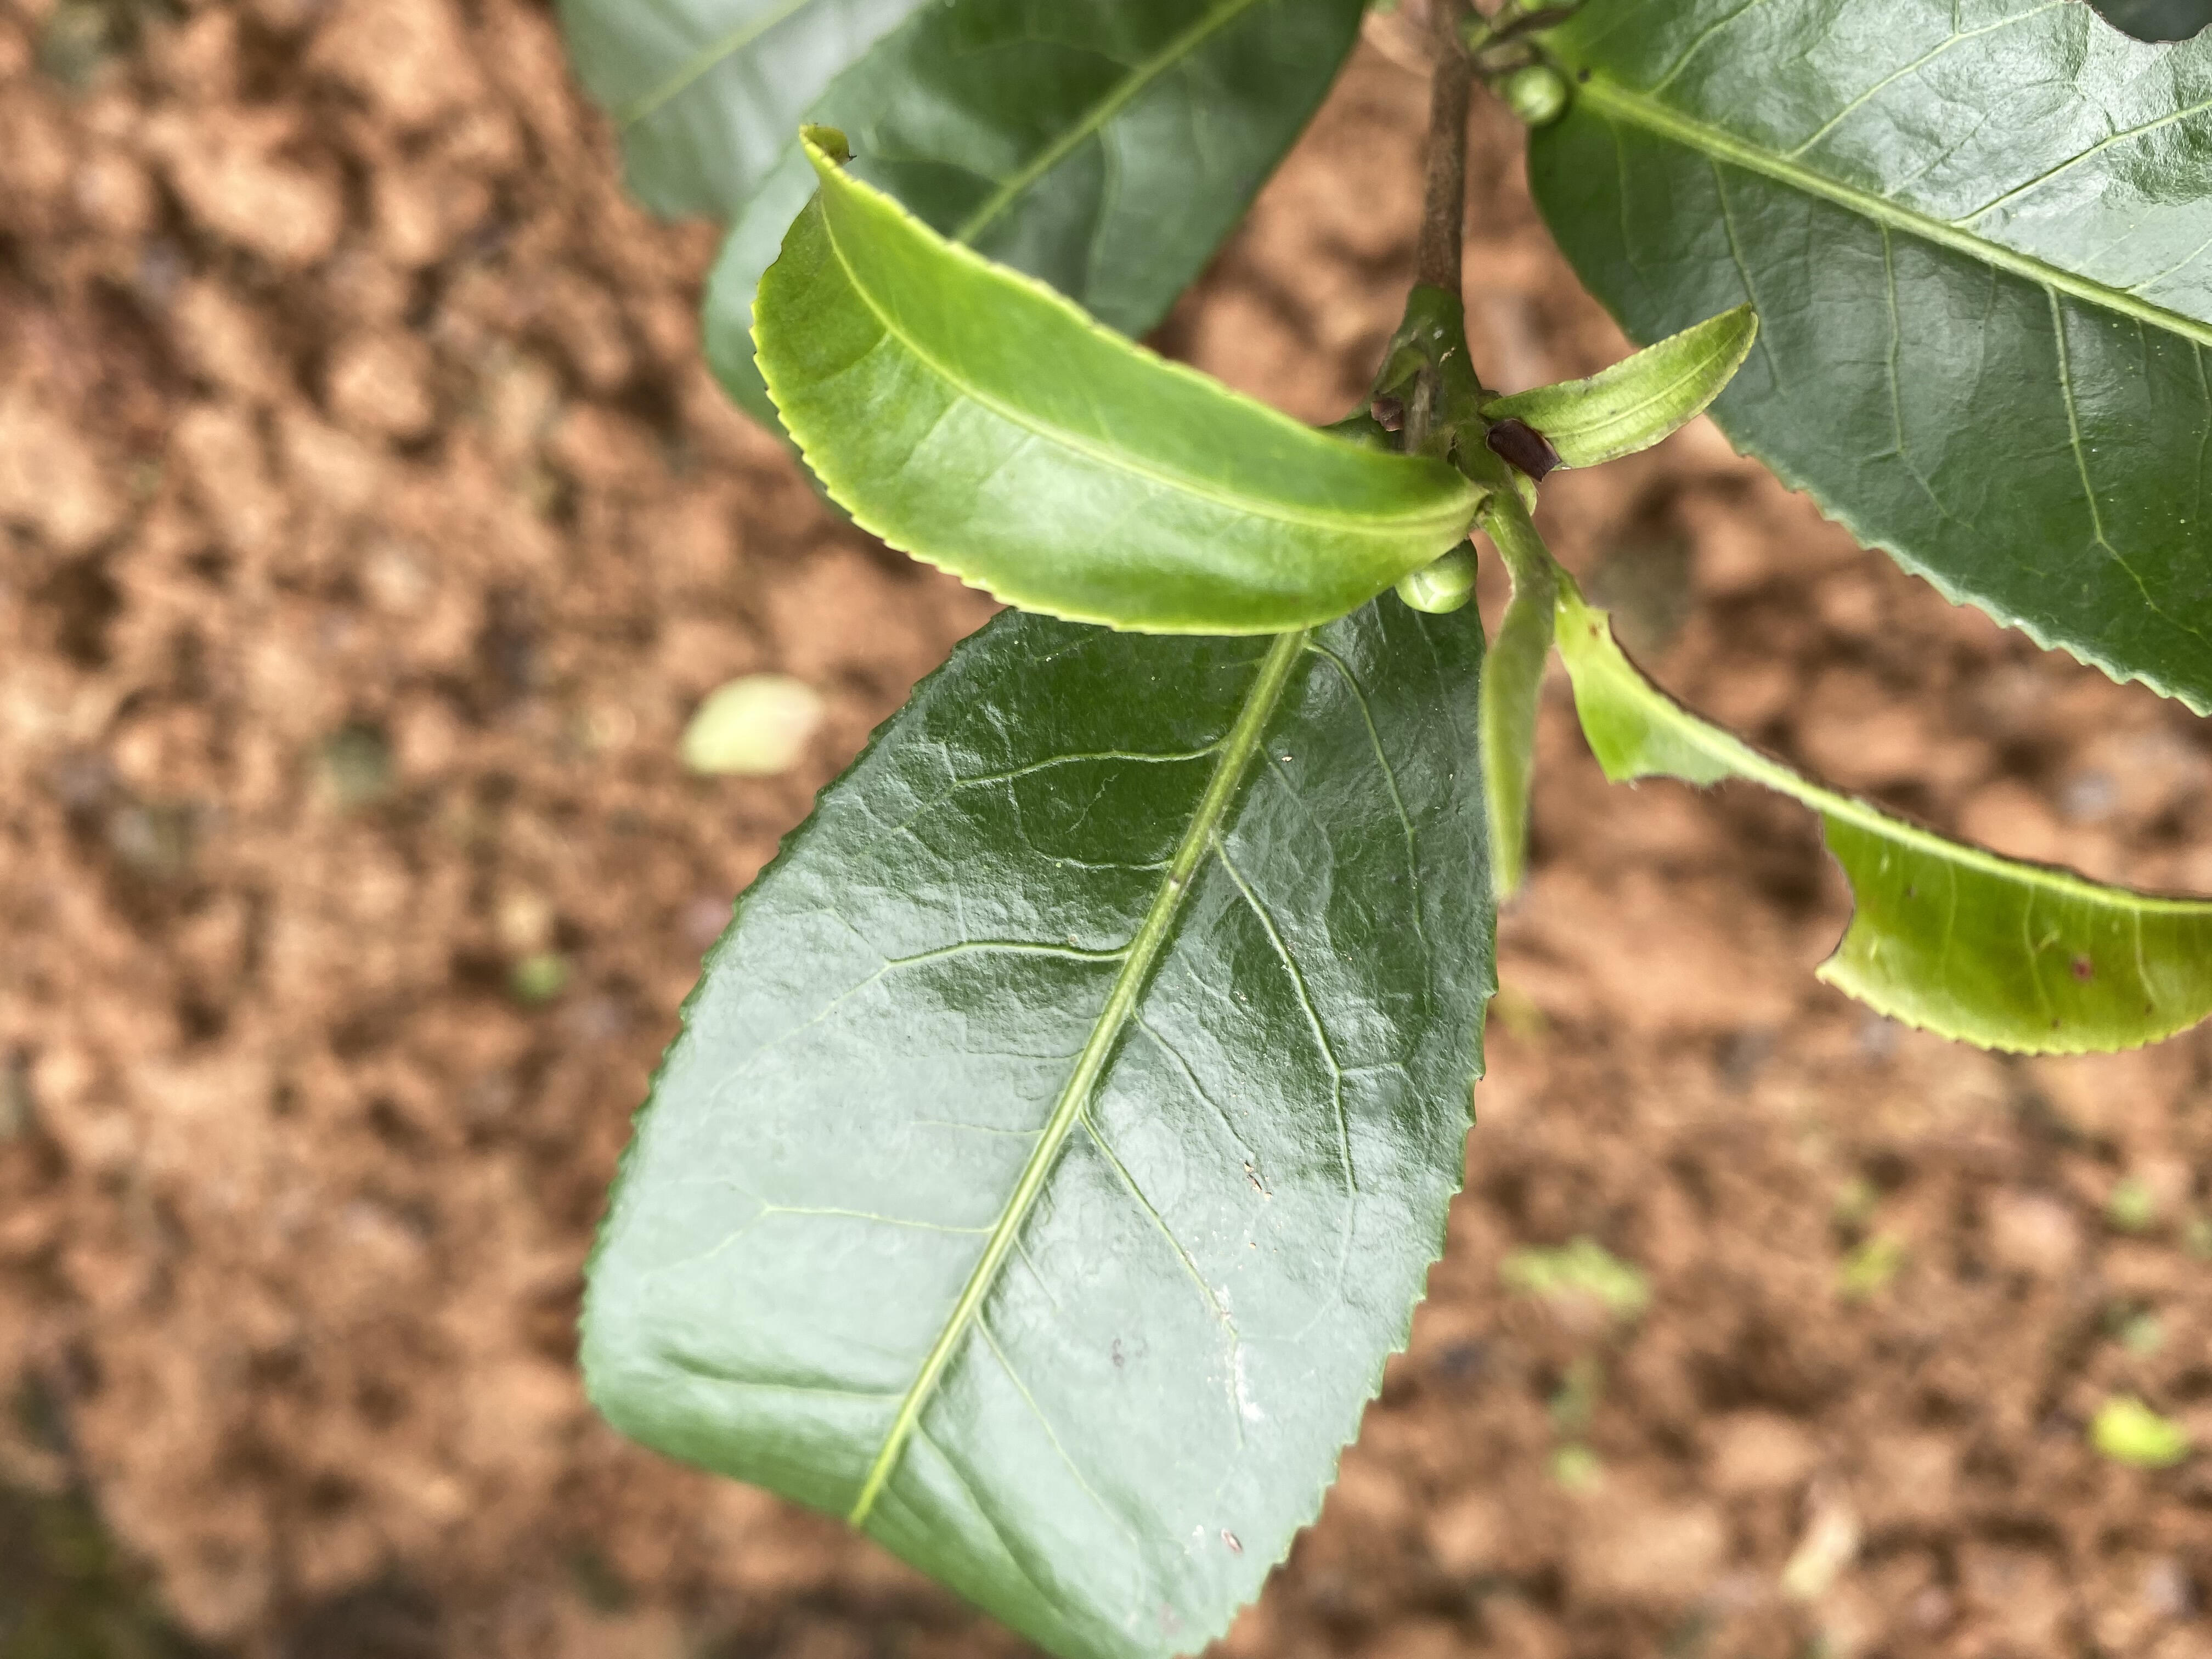chihuo_high: (1562, 586, 2209, 1054)
chihuo_low: (1522, 3, 2210, 713)
healthy: (744, 124, 1477, 638)
tanju_low: (580, 416, 1501, 1659)
